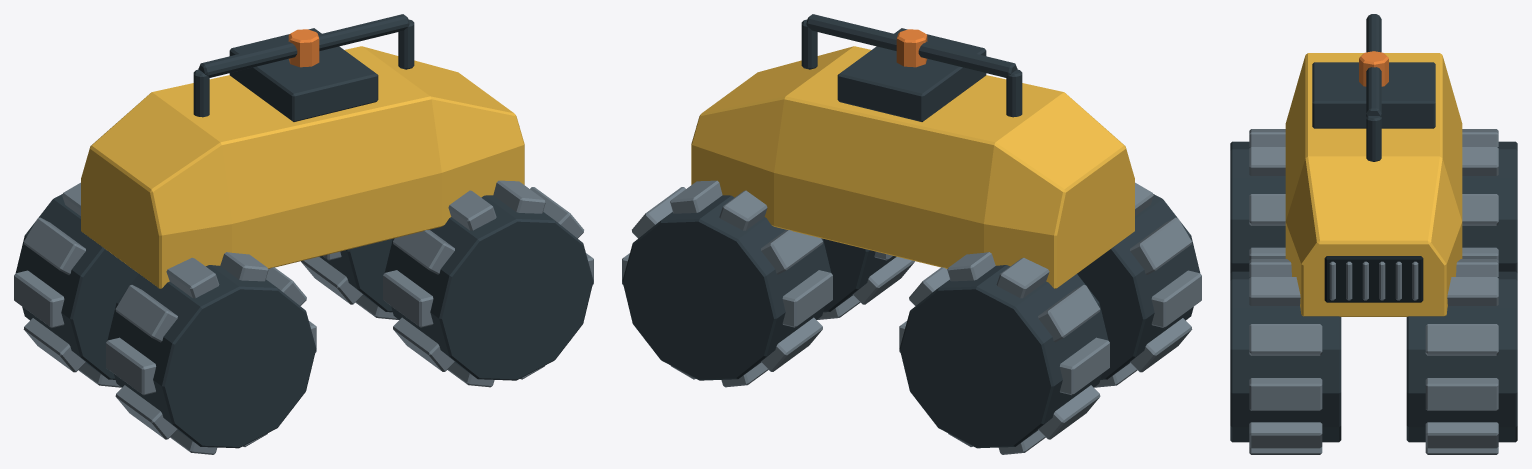
File: b07_remote_trench_padfoot_roller.glb
The picture shows the model from 3 angles, left to right: view 1: azimuth 30°, elevation 25°; view 2: azimuth 150°, elevation 25°; view 3: azimuth 270°, elevation 25°; orthographic projection. The views are drawn at different scales.
Visible parts, largest first — view 1: b07_remote_trench_padfoot_roller; view 2: b07_remote_trench_padfoot_roller; view 3: b07_remote_trench_padfoot_roller.
Boxes of the visible parts, x1,y1,x2,y2 form: b07_remote_trench_padfoot_roller: (14,14,593,454); b07_remote_trench_padfoot_roller: (622,14,1201,454); b07_remote_trench_padfoot_roller: (1230,14,1517,454).
Size of the model in its own units: 1.99 by 1.41 by 1.14.
